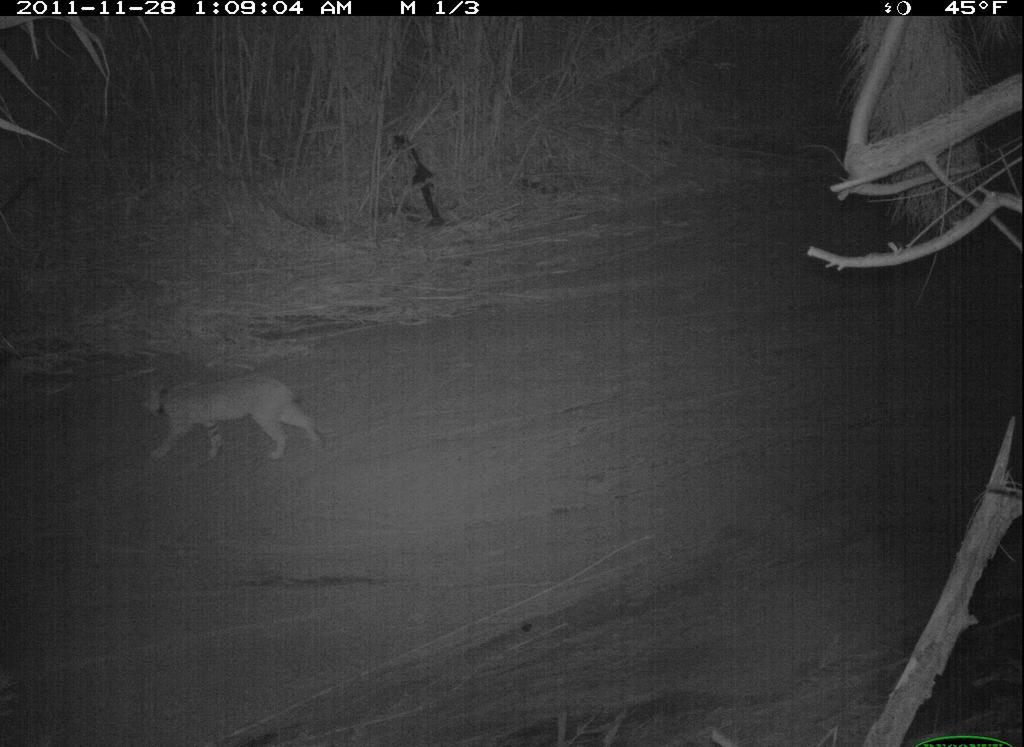bobcat: (116, 358, 335, 481)
